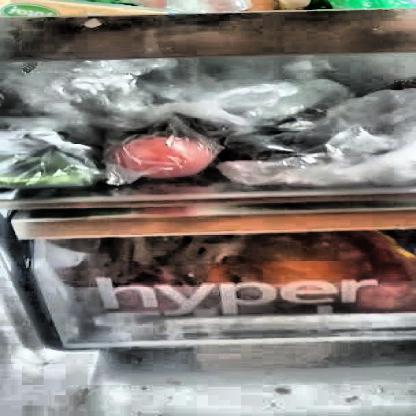tomato: (119, 134, 214, 178)
